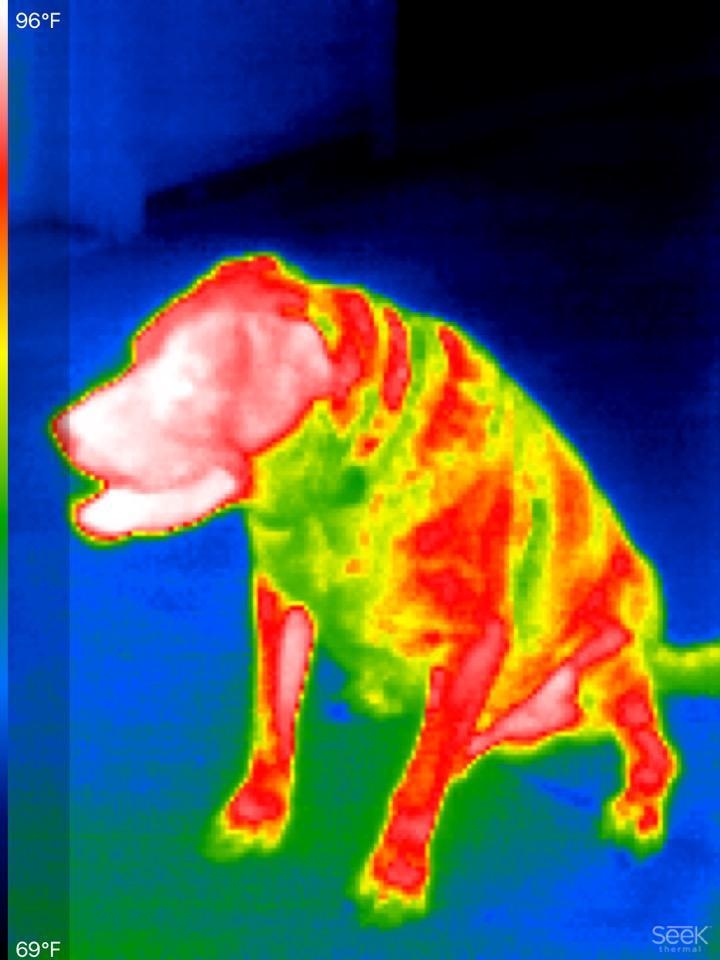dog: (46, 238, 681, 914)
